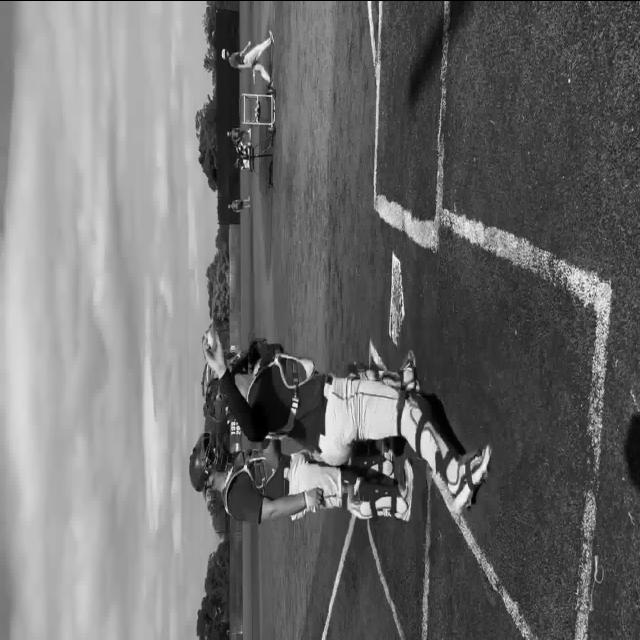shoe: (440, 442, 491, 513), (395, 458, 414, 520), (400, 349, 420, 389)
